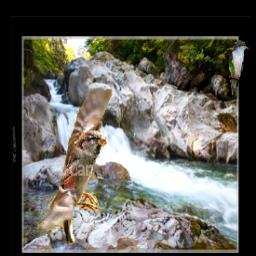Cuckoo: (229, 41, 249, 96)
Sparrow: (35, 89, 112, 245)
